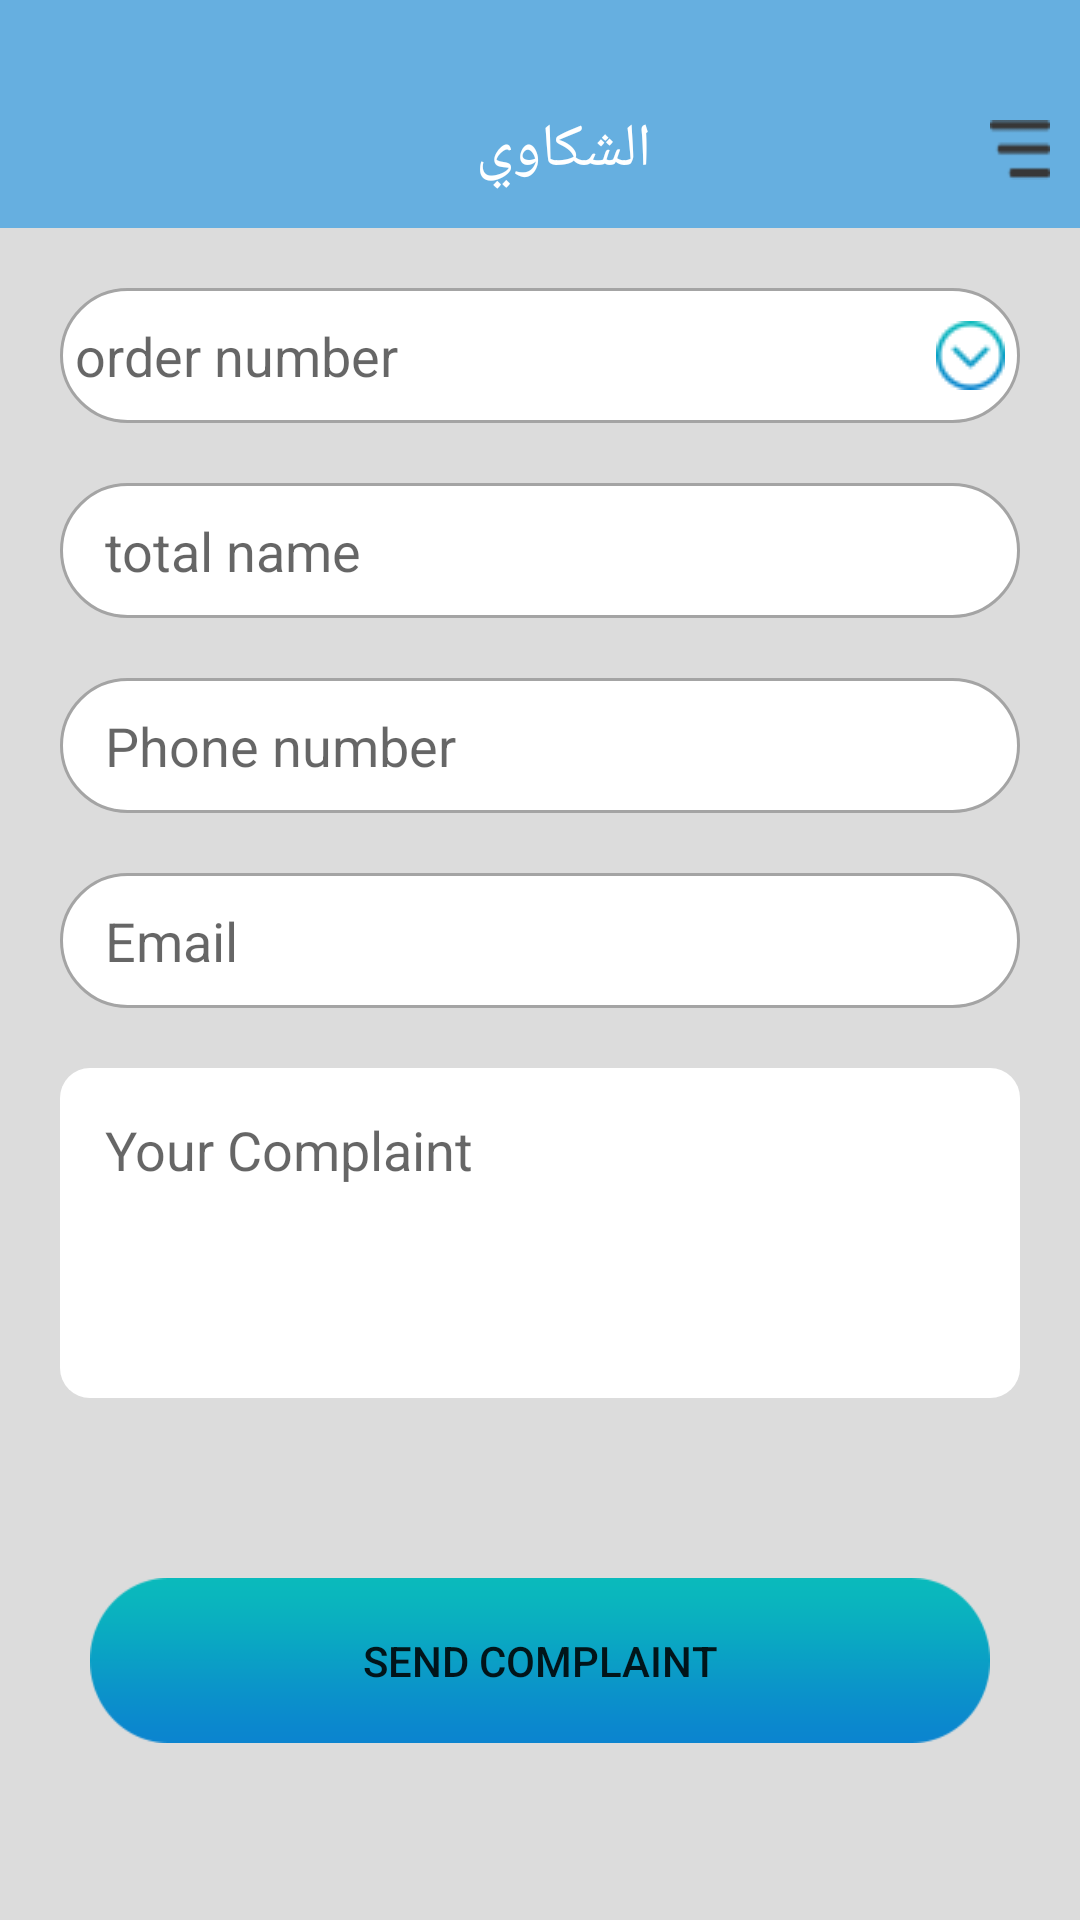

Where to tap for icons on this 1080 × 1920 app screen, as [x,y]:
dropdown: [970,355]
list: [1020,149]
